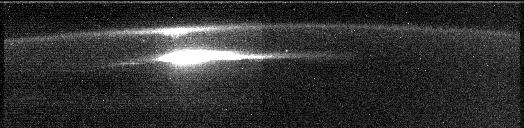negative: (155, 26, 197, 40)
